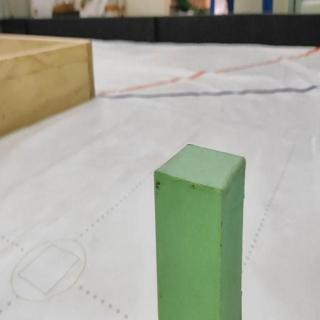greenbox: (151, 141, 247, 320)
